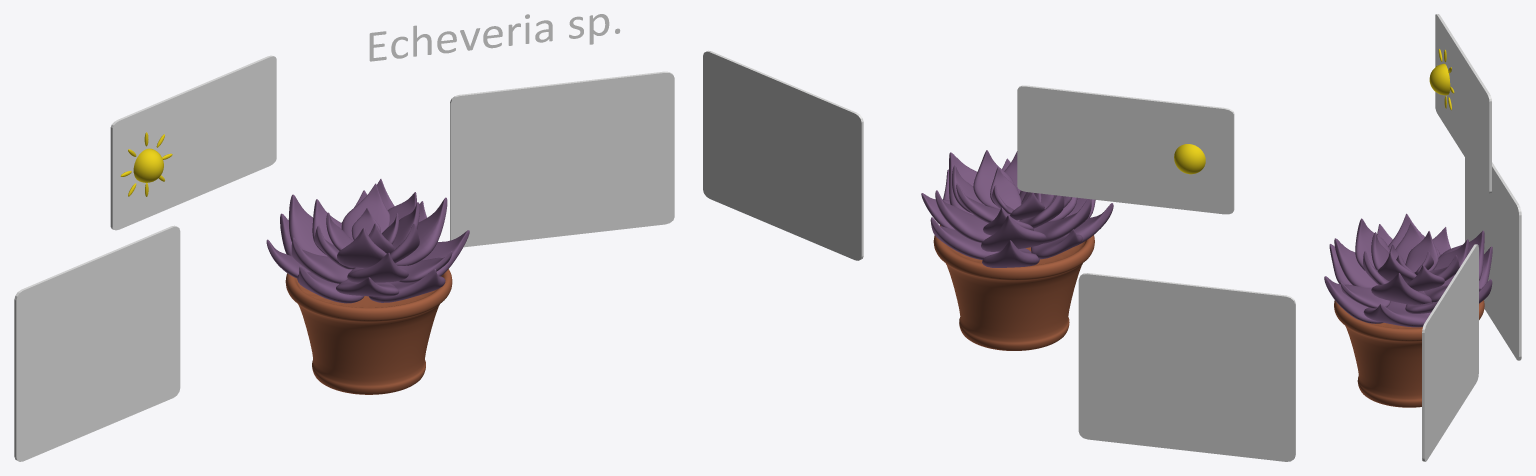
The model's file is Echeveria_sample.glb.
The picture shows the model from 3 angles, left to right: view 1: azimuth 30°, elevation 25°; view 2: azimuth 150°, elevation 25°; view 3: azimuth 270°, elevation 25°; orthographic projection. The views are drawn at different scales.
Parts seen in each view (by area): view 1: Plane, Plane.001, Plane.002, Cylinder, Text, Cube.028, Cube.004, Cube.002, Cube.030, Cube.023, Cube.027, Cube.001 (+5 smaller); view 2: Plane.001, Plane, Plane.002, Cylinder, Cube.030, Cube.029, Cube.037, Cube.005, Cube.024, Cube.004, Sphere, Cube.034 (+4 smaller); view 3: Plane, Plane.001, Cylinder, Plane.002, Cube.036, Cube.028, Cube.027, Cube.001, Cube.019, Cube.002, Cube.031, Cube.024 (+14 smaller).
Part boxes in pixels (bbox=[...]): Plane: bbox=[450, 71, 674, 247]; Plane.001: bbox=[14, 225, 180, 461]; Plane.002: bbox=[110, 55, 276, 230]; Cylinder: bbox=[285, 269, 452, 394]; Text: bbox=[369, 14, 620, 61]; Cube.028: bbox=[395, 197, 447, 265]; Cube.004: bbox=[291, 237, 352, 283]; Cube.002: bbox=[337, 228, 386, 268]; Cube.030: bbox=[288, 194, 327, 256]; Cube.023: bbox=[341, 183, 389, 240]; Cube.027: bbox=[347, 253, 408, 282]; Cube.001: bbox=[368, 269, 445, 302]; Plane.001: bbox=[1078, 273, 1295, 461]; Plane: bbox=[703, 50, 863, 260]; Plane.002: bbox=[1017, 85, 1234, 214]; Cylinder: bbox=[933, 225, 1094, 350]; Cube.030: bbox=[981, 215, 1046, 251]; Cube.029: bbox=[935, 190, 991, 242]; Cube.037: bbox=[930, 217, 998, 259]; Cube.005: bbox=[982, 240, 1039, 267]; Cube.024: bbox=[973, 150, 1014, 209]; Cube.004: bbox=[1034, 199, 1091, 243]; Sphere: bbox=[1174, 144, 1205, 174]; Cube.034: bbox=[1031, 229, 1082, 259]; Plane: bbox=[1422, 244, 1478, 461]; Plane.001: bbox=[1465, 158, 1521, 360]; Cylinder: bbox=[1334, 300, 1484, 407]; Plane.002: bbox=[1435, 14, 1491, 193]; Cube.036: bbox=[1363, 301, 1430, 327]; Cube.028: bbox=[1371, 273, 1431, 304]; Cube.027: bbox=[1334, 238, 1377, 287]; Cube.001: bbox=[1324, 276, 1383, 323]; Cube.019: bbox=[1405, 231, 1438, 272]; Cube.002: bbox=[1355, 218, 1389, 270]; Cube.031: bbox=[1340, 282, 1390, 308]; Cube.024: bbox=[1377, 252, 1416, 283].
Bounding box in the file's own units: 224 × 112 × 66.5.
